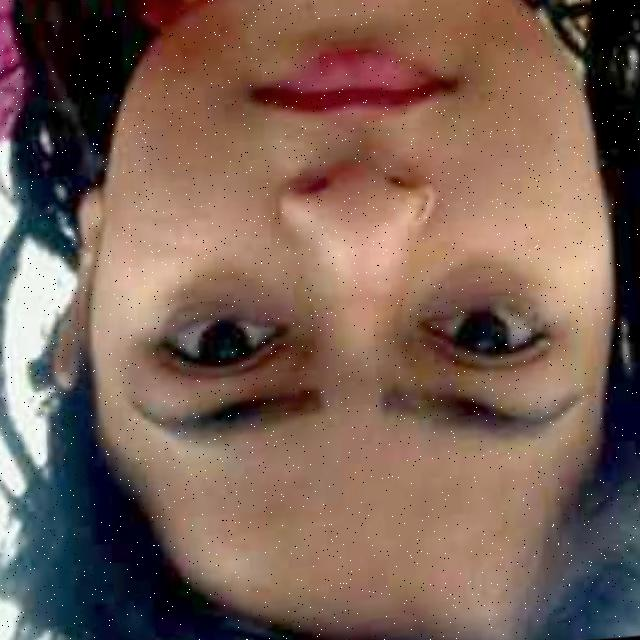puffy_eyes: (414, 260, 530, 314)
